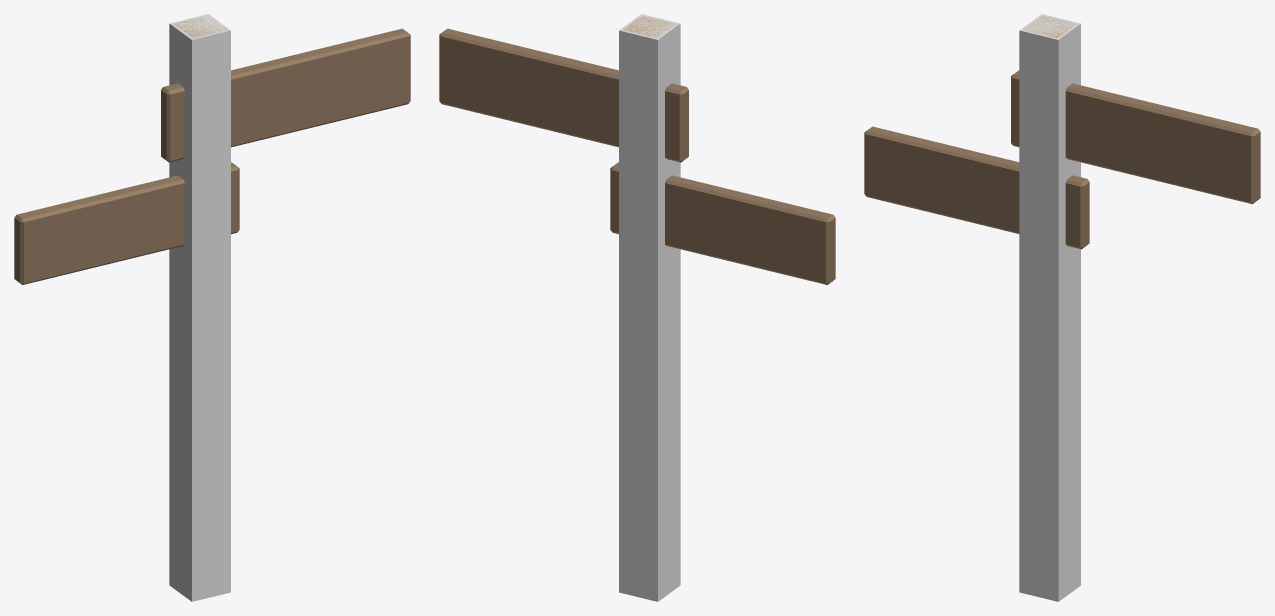
Rendered from Signpost.fbx.
The picture shows the model from 3 angles, left to right: view 1: azimuth 30°, elevation 25°; view 2: azimuth 150°, elevation 25°; view 3: azimuth 330°, elevation 25°; orthographic projection.
Parts seen in each view (by area): view 1: COL_Post, Signpost_Mesh; view 2: COL_Post, Signpost_Mesh; view 3: COL_Post, Signpost_Mesh.
Part boxes in pixels (x1=…): COL_Post: x1=169, y1=14, x2=230, y2=601; Signpost_Mesh: x1=14, y1=17, x2=410, y2=284; COL_Post: x1=619, y1=14, x2=680, y2=601; Signpost_Mesh: x1=439, y1=16, x2=835, y2=284; COL_Post: x1=1019, y1=14, x2=1080, y2=601; Signpost_Mesh: x1=864, y1=16, x2=1260, y2=249.
Bounding box in the file's own units: 1.6 × 2.2 × 0.16.
